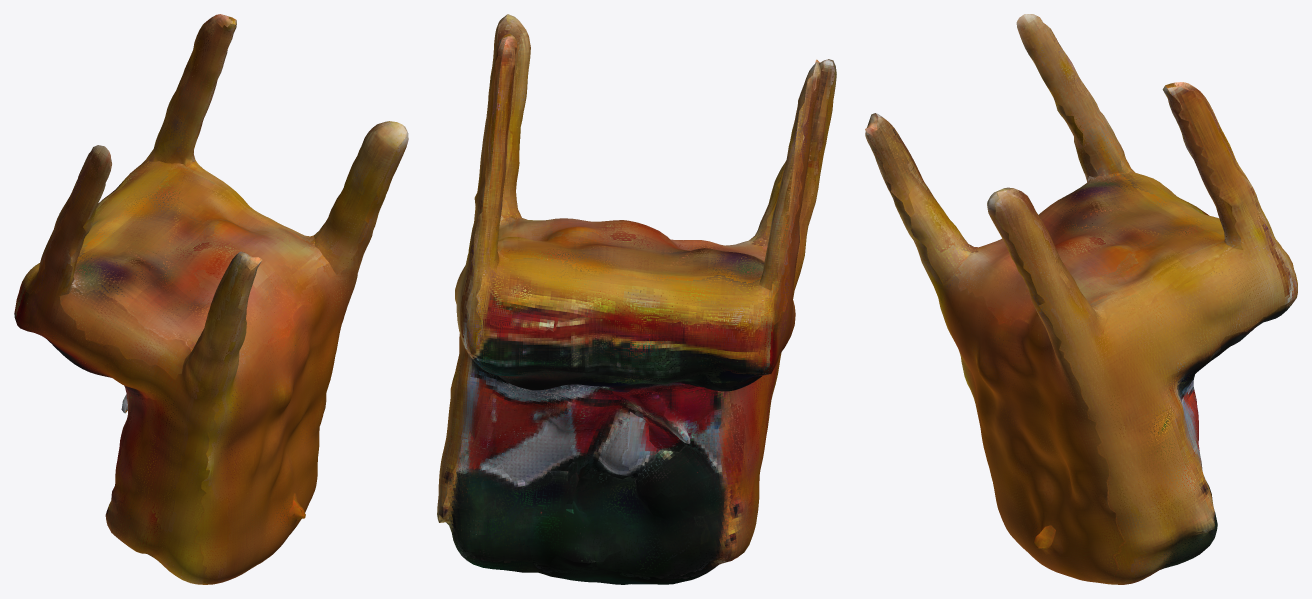
File: 3_chair.glb
3 renders of one model, left to right at view 1: azimuth 30°, elevation 25°; view 2: azimuth 150°, elevation 25°; view 3: azimuth 270°, elevation 25°, orthographic. The views are drawn at different scales.
Visible parts, largest first — view 1: 3_chair.obj; view 2: 3_chair.obj; view 3: 3_chair.obj.
Part boxes in pixels (x1,y1,x2,y2): 3_chair.obj: [14, 14, 408, 584]; 3_chair.obj: [437, 14, 836, 584]; 3_chair.obj: [865, 14, 1297, 584].
Size of the model in its own units: 0.8299 by 1.26 by 0.9787.
1 material, 1 textured.
